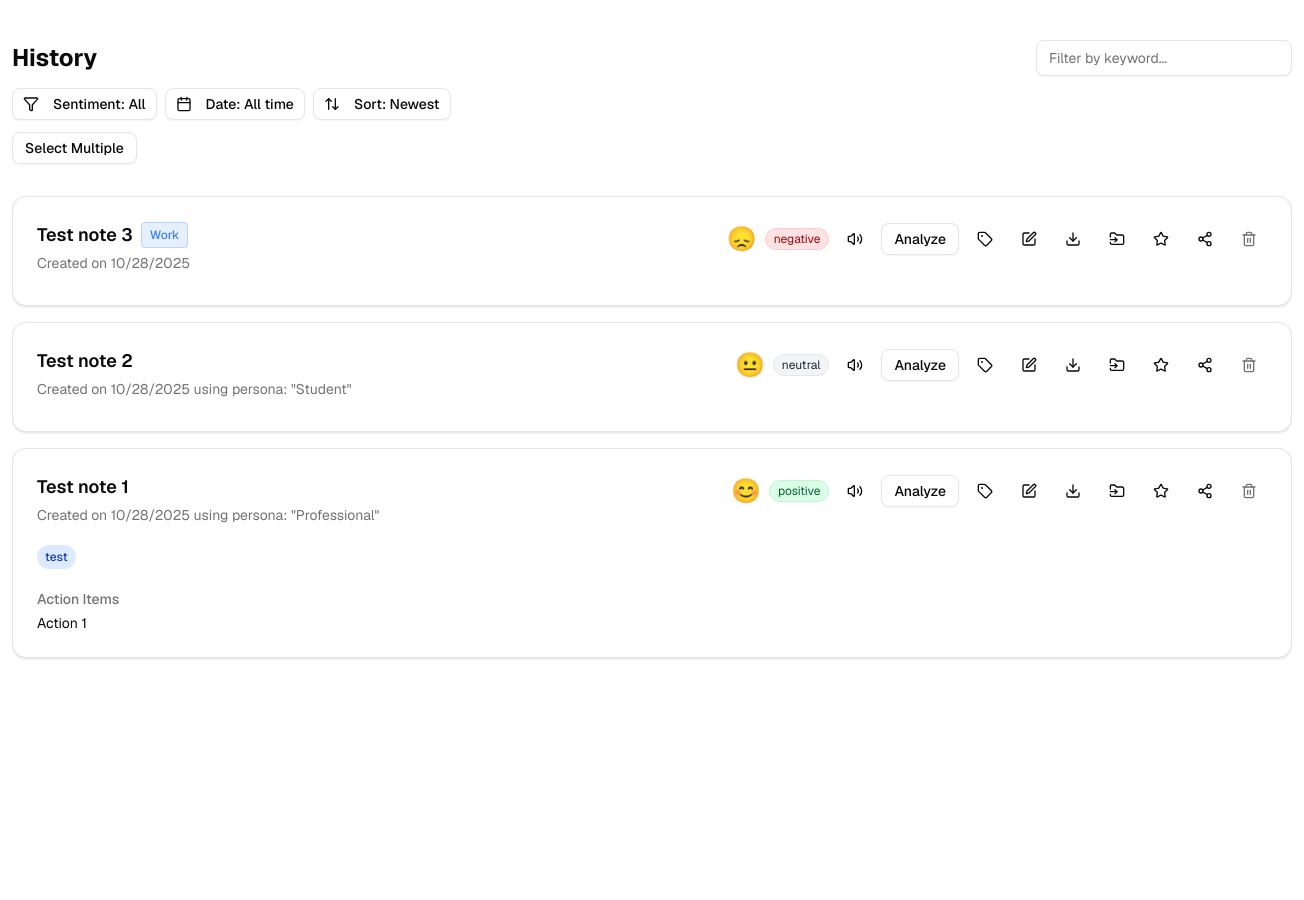
History - Optimistic UI › Bulk Delete with Undo › optimistically removes notes and shows undo toast
Check: the text "Test note 1" is shown, box x1=37 y1=473 x2=129 y2=501
Check: the text "Test note 2" is shown, box x1=37 y1=347 x2=133 y2=375
Click the button "Select Multiple" at (74, 148), box x1=12 y1=132 x2=137 y2=164
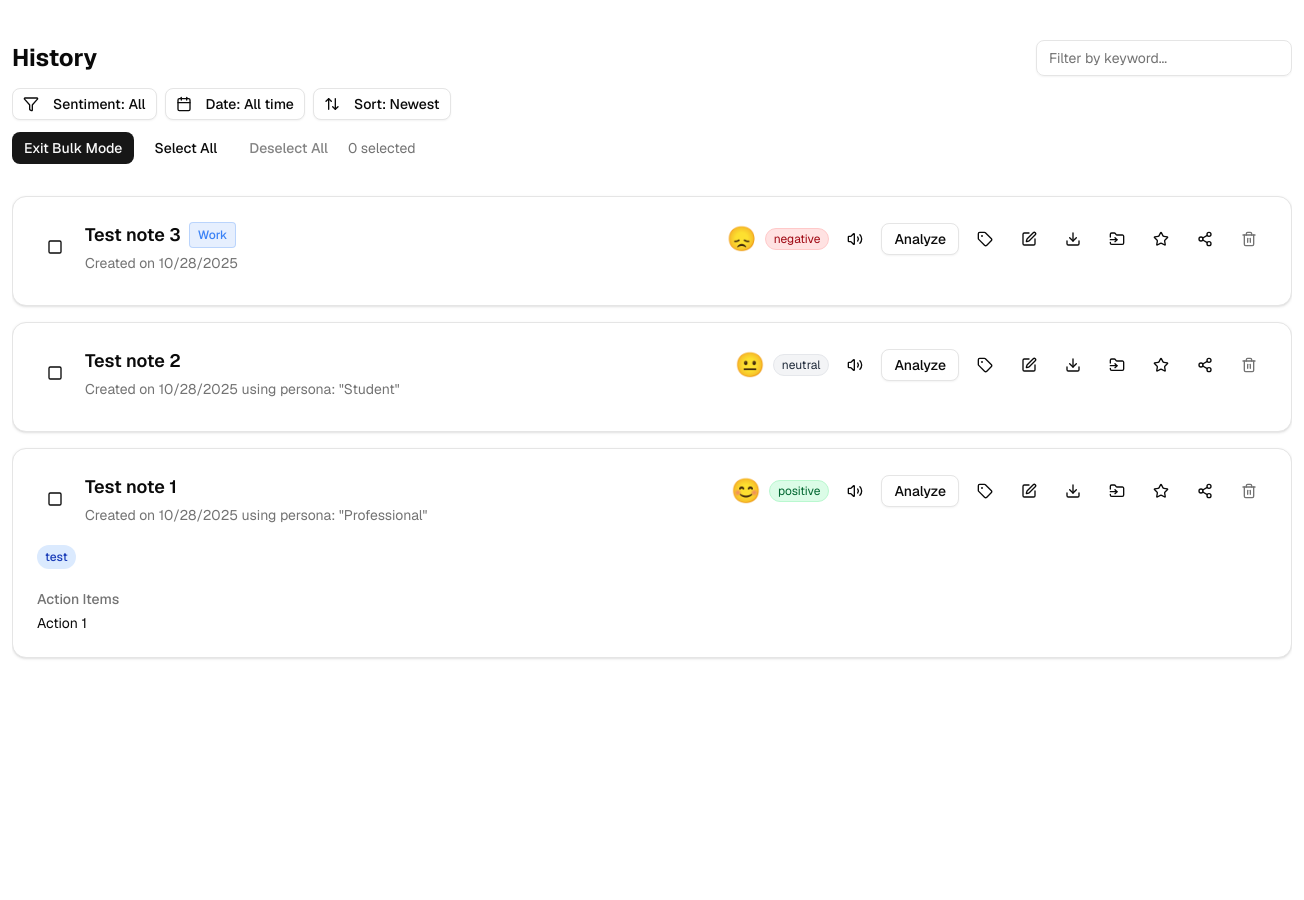
Check: the text "Test note 1" is shown, box x1=85 y1=475 x2=177 y2=498
Click the button named "Select note" next to "Test note 1" at (55, 499), box x1=37 y1=481 x2=73 y2=517
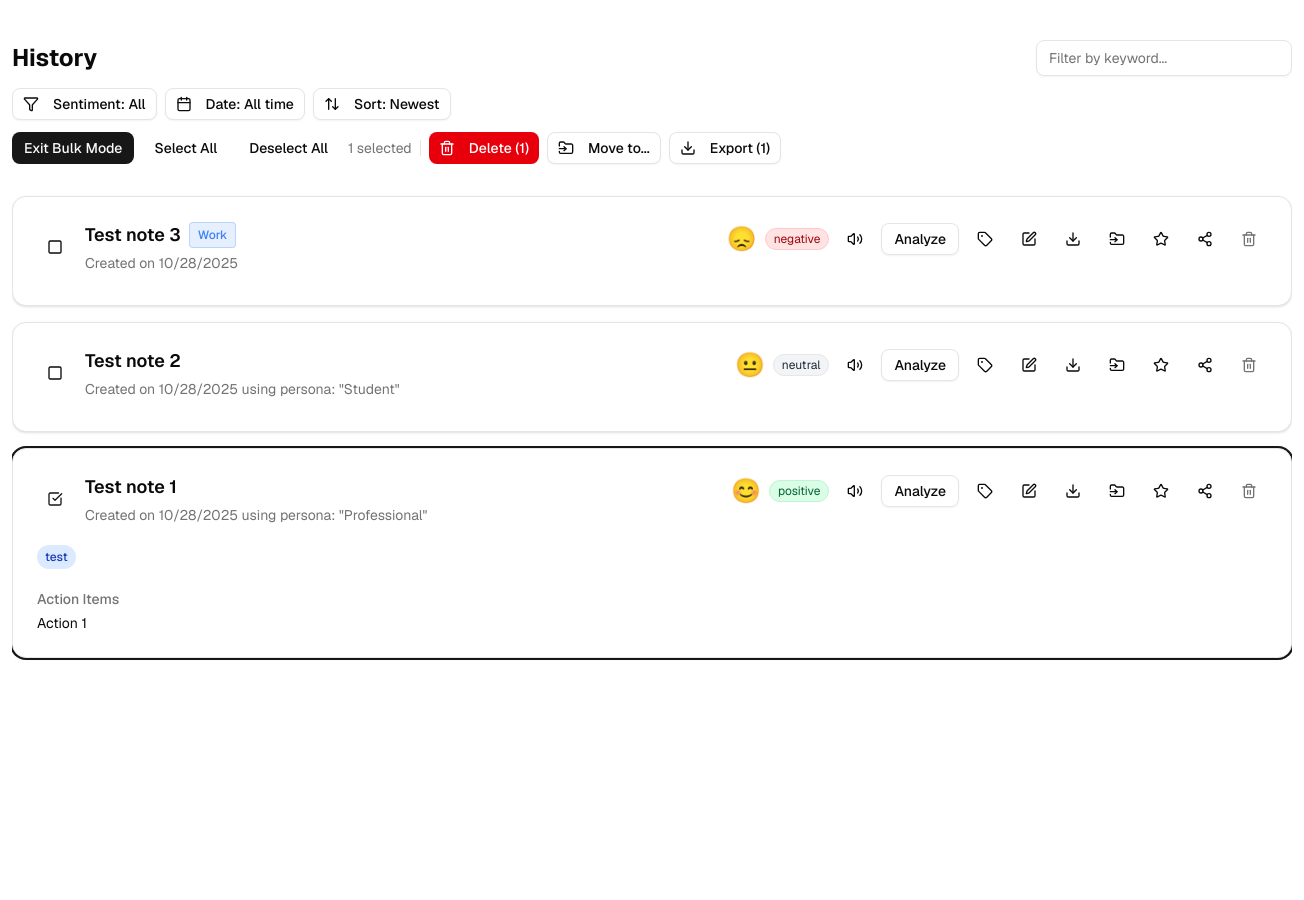
Click the button "Delete (1)" at (484, 148), box x1=429 y1=132 x2=539 y2=164
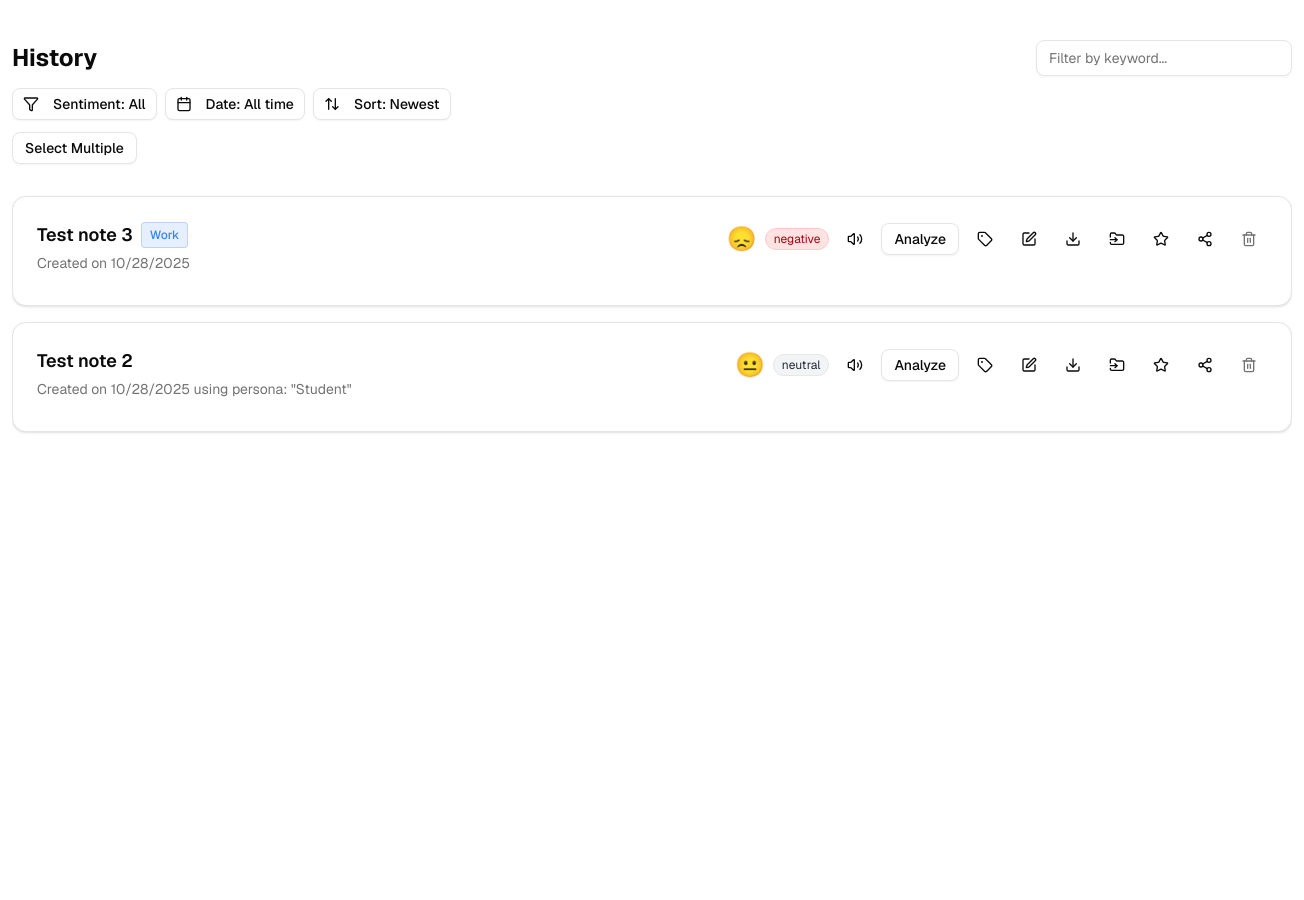
Check: the text "Test note 1" is gone
